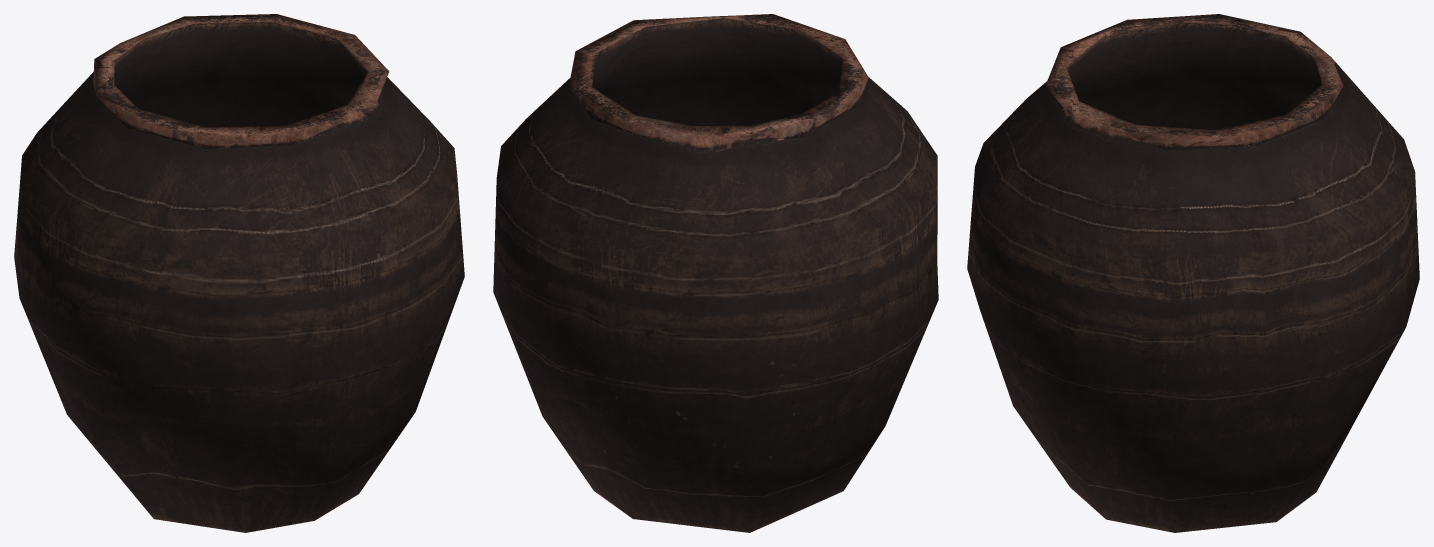
File: SM_Jar01b.fbx
3 views of the same model, side by side, from view 1: azimuth 30°, elevation 25°; view 2: azimuth 150°, elevation 25°; view 3: azimuth 270°, elevation 25° (orthographic).
Visible parts, largest first — view 1: SM_Jar01b; view 2: SM_Jar01b; view 3: SM_Jar01b.
Part boxes in pixels (x1,y1,x2,y2): SM_Jar01b: (14, 14, 464, 532); SM_Jar01b: (493, 14, 938, 532); SM_Jar01b: (967, 14, 1419, 532).
Size of the model in its own units: 75.42 by 74.86 by 75.49.
1 material, 1 textured.
